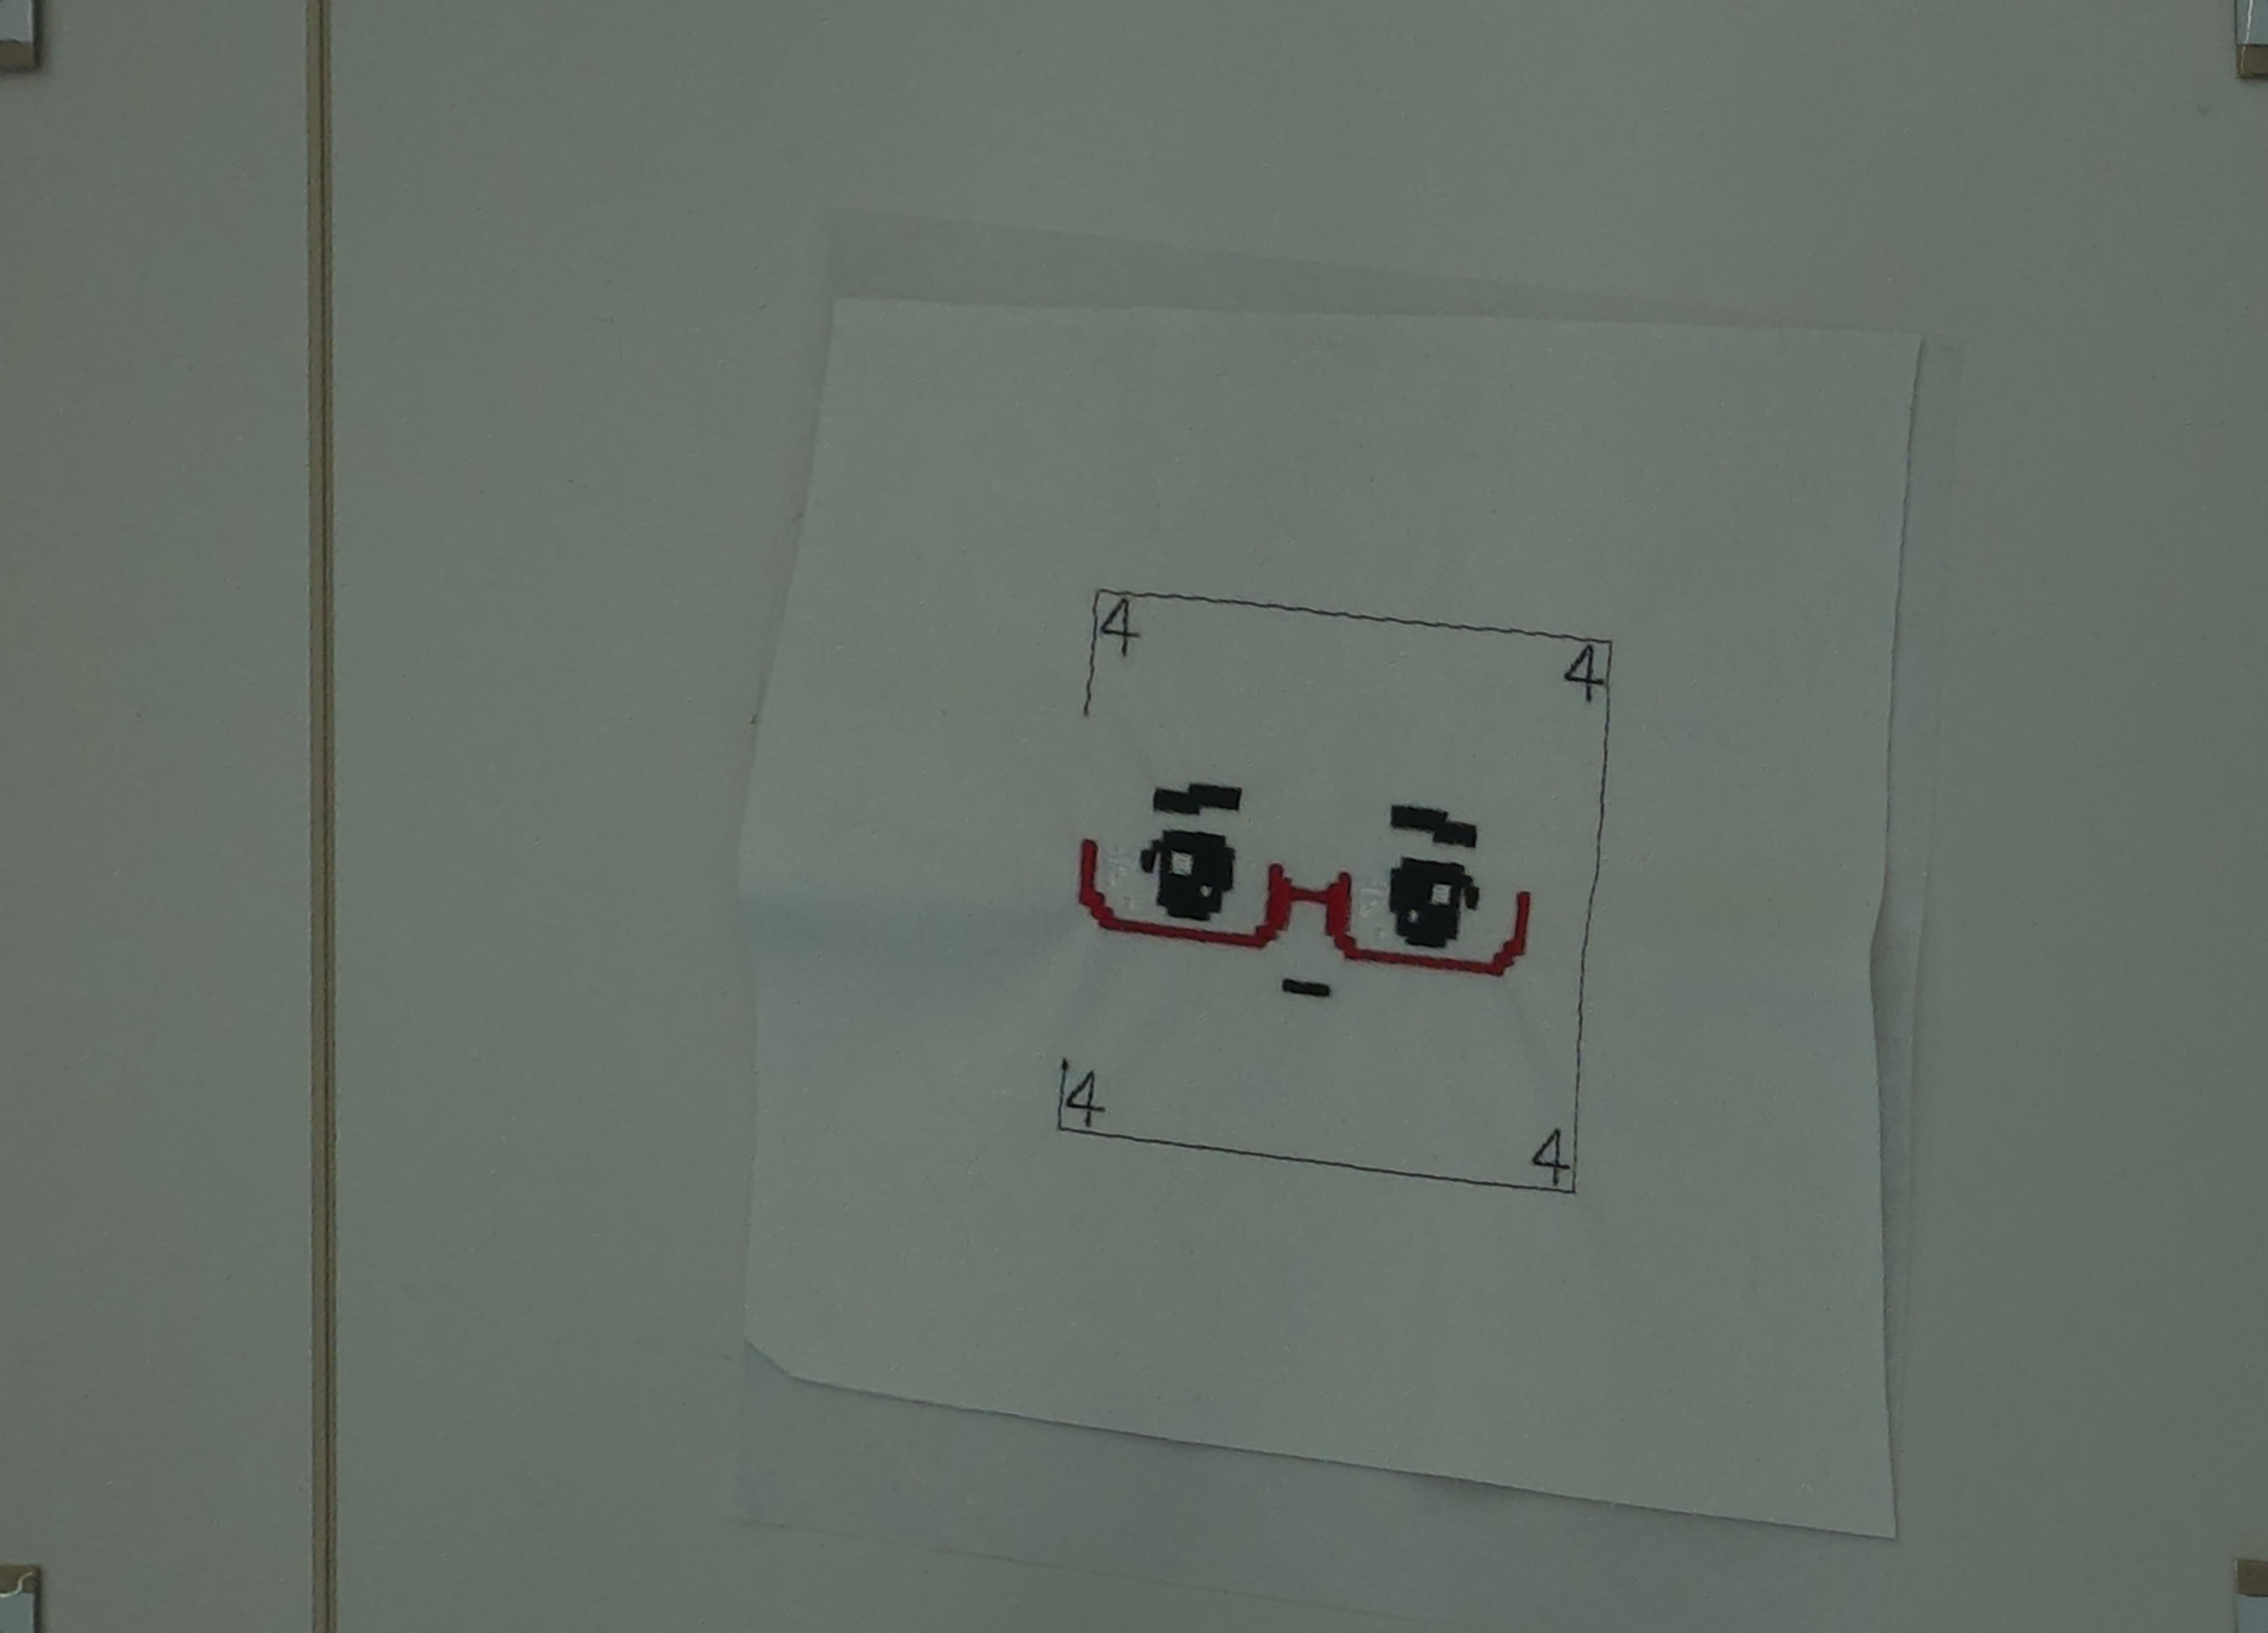4 -: (1102, 599, 1155, 668), (1557, 639, 1608, 705), (1069, 1059, 1113, 1127), (1527, 1120, 1572, 1184)
